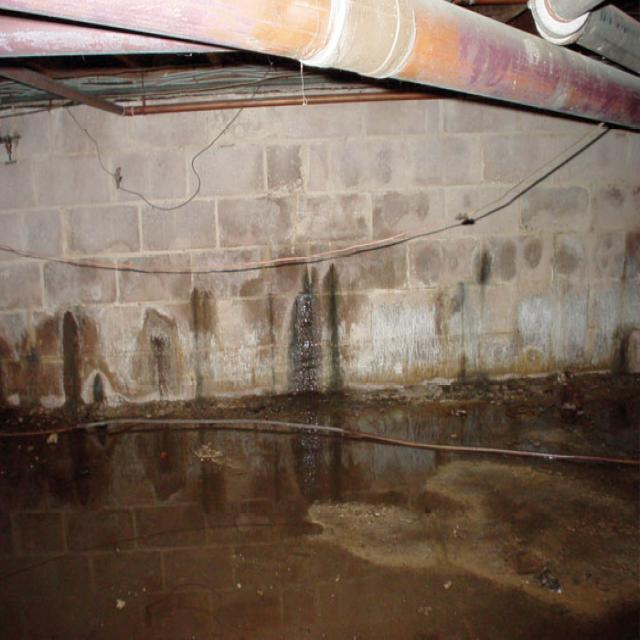Water_Leakage: (2, 203, 634, 534)
